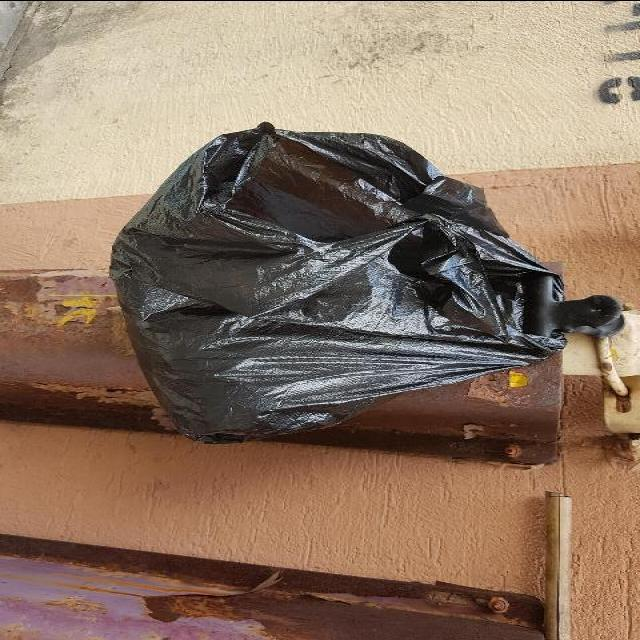plastic bag: (108, 116, 564, 442)
